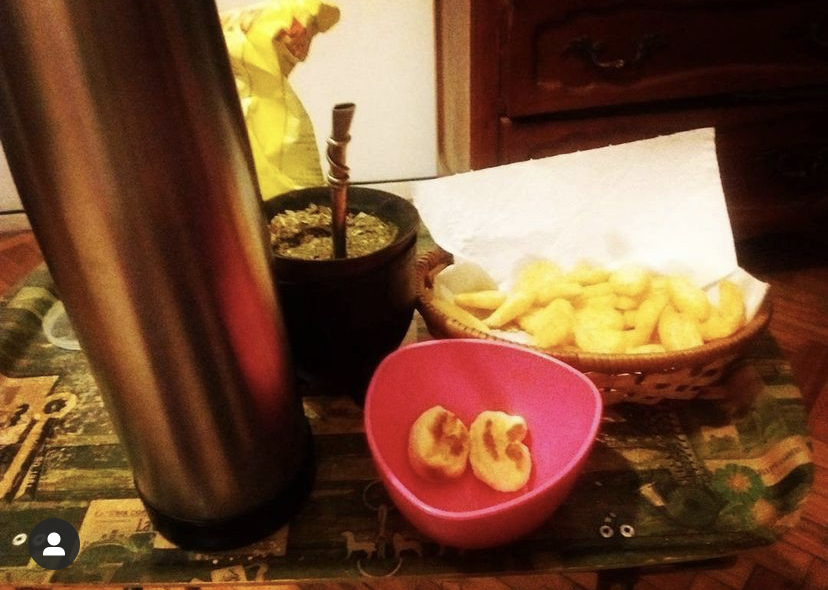calabaza: (245, 189, 420, 384)
mate: (243, 94, 423, 398)
